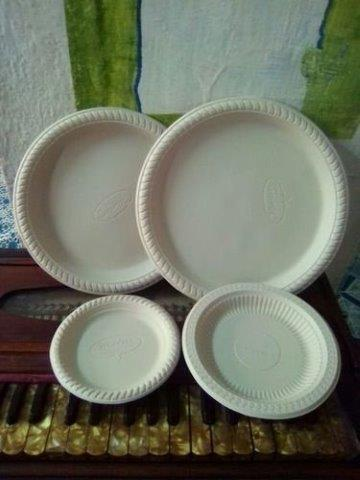sterofoam: (140, 98, 346, 298), (17, 108, 168, 292), (184, 285, 339, 417), (50, 295, 178, 403)
